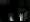person: (22, 10, 28, 21), (9, 10, 15, 21)
